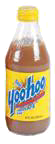grozi_74: (5, 5, 51, 135)
